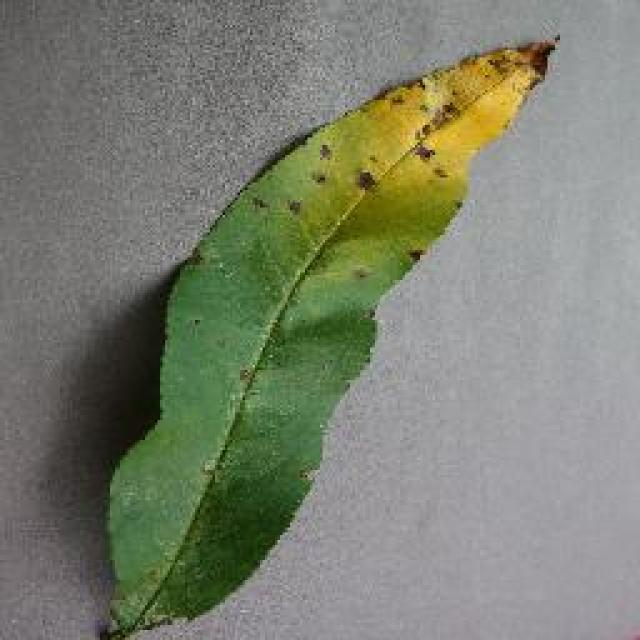Peach_Bacterial_Spot: (237, 18, 548, 267)
